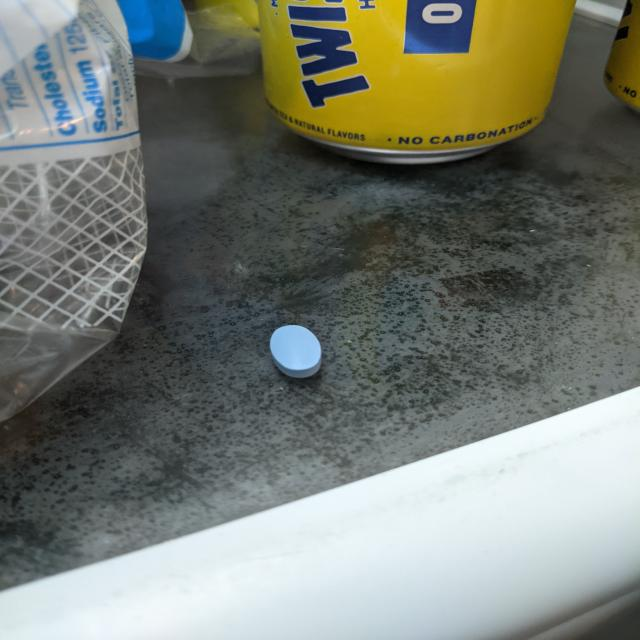non-organic waste: (268, 324, 324, 379)
